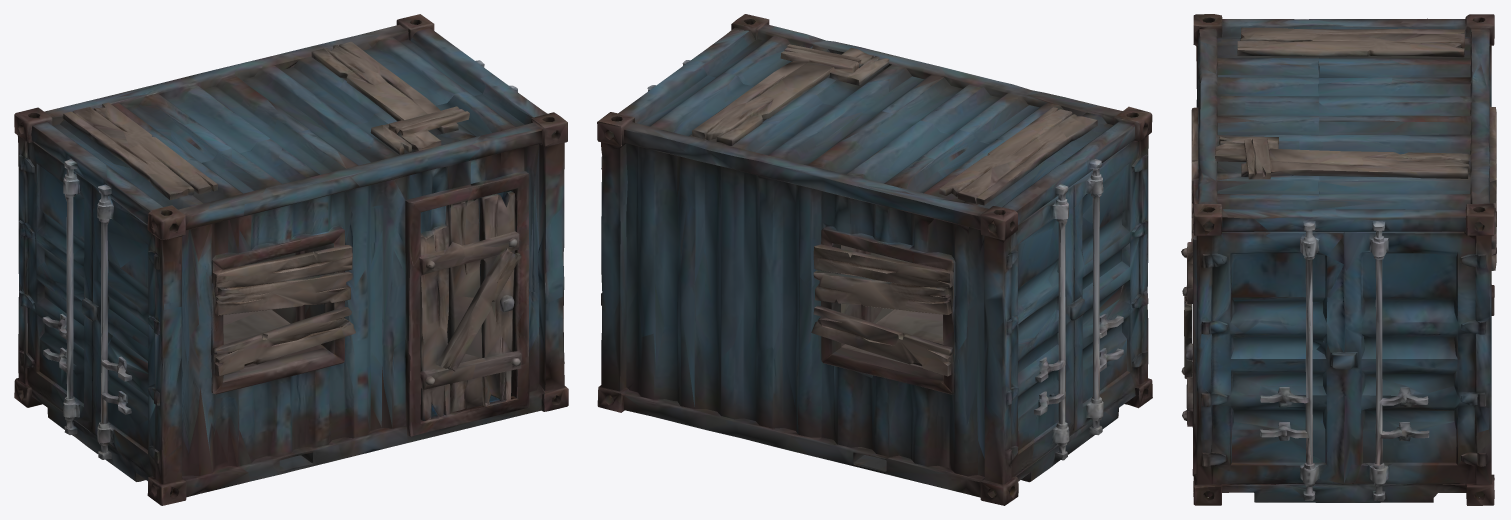
File: container_shack_idle.glb
3 views of the same model, side by side, from view 1: azimuth 30°, elevation 25°; view 2: azimuth 150°, elevation 25°; view 3: azimuth 270°, elevation 25° (orthographic).
Parts seen in each view (by area): view 1: tripo_node_c9f38bfb-f147-49f5-ae5e-9151de0024ab; view 2: tripo_node_c9f38bfb-f147-49f5-ae5e-9151de0024ab; view 3: tripo_node_c9f38bfb-f147-49f5-ae5e-9151de0024ab.
Boxes of the visible parts, x1,y1,x2,y2 form: tripo_node_c9f38bfb-f147-49f5-ae5e-9151de0024ab: [14, 14, 568, 505]; tripo_node_c9f38bfb-f147-49f5-ae5e-9151de0024ab: [597, 14, 1152, 505]; tripo_node_c9f38bfb-f147-49f5-ae5e-9151de0024ab: [1181, 14, 1496, 505].
Size of the model in its own units: 6 by 3.98 by 3.83.
1 material, 1 textured.
